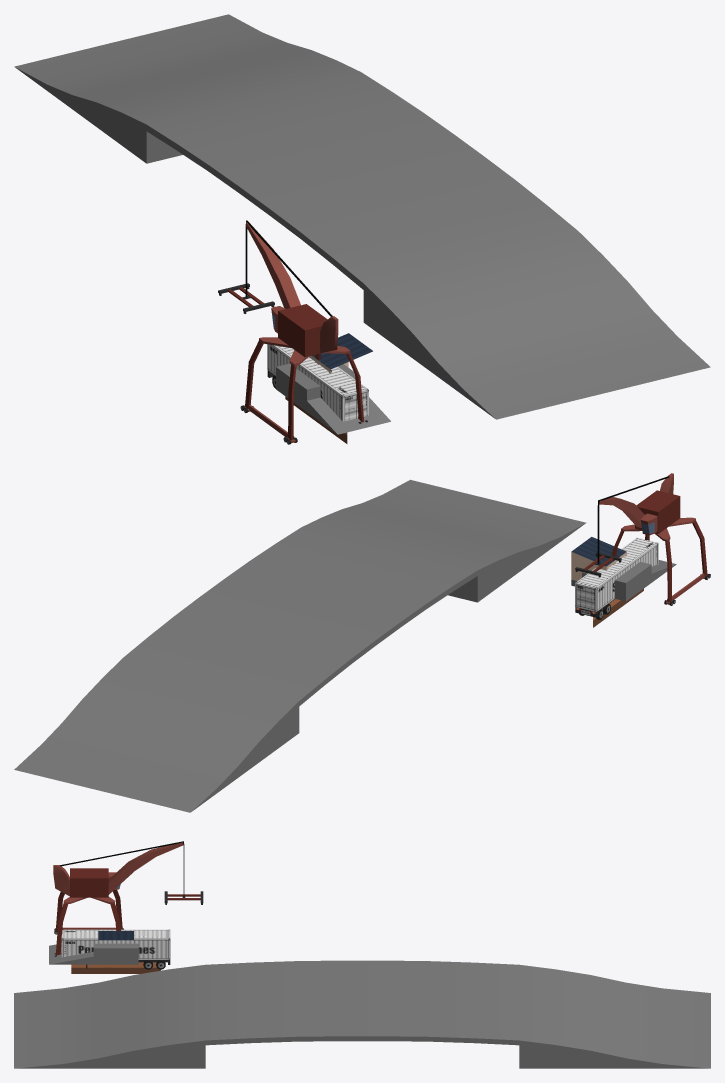
File: Port.FBX
The picture shows the model from 3 angles, top to bottom: view 1: azimuth 30°, elevation 25°; view 2: azimuth 150°, elevation 25°; view 3: azimuth 270°, elevation 25°; orthographic projection. The views are drawn at different scales.
Parts seen in each view (by area): view 1: Bridge, Crane, Container, FoundationAngle, Foundation, Roof; view 2: Bridge, Crane, Container, Foundation, Roof; view 3: Bridge, Crane, Container, Foundation, PierWall, FoundationAngle.
Part boxes in pixels (bbox=[...]): Bridge: bbox=[14, 14, 710, 419]; Crane: bbox=[240, 220, 367, 444]; Container: bbox=[267, 344, 368, 421]; FoundationAngle: bbox=[276, 368, 390, 434]; Foundation: bbox=[276, 363, 360, 411]; Roof: bbox=[312, 333, 372, 369]; Bridge: bbox=[14, 479, 586, 812]; Crane: bbox=[597, 473, 710, 605]; Container: bbox=[575, 537, 658, 611]; Foundation: bbox=[582, 561, 651, 601]; Roof: bbox=[571, 537, 626, 566]; Bridge: bbox=[14, 960, 710, 1068]; Crane: bbox=[53, 841, 184, 956]; Container: bbox=[61, 929, 170, 959]; Foundation: bbox=[93, 943, 138, 964]; PierWall: bbox=[71, 962, 160, 973]; FoundationAngle: bbox=[49, 943, 138, 964].
Size of what is drawn, in the model's own units: 36692 by 15349 by 77812.
